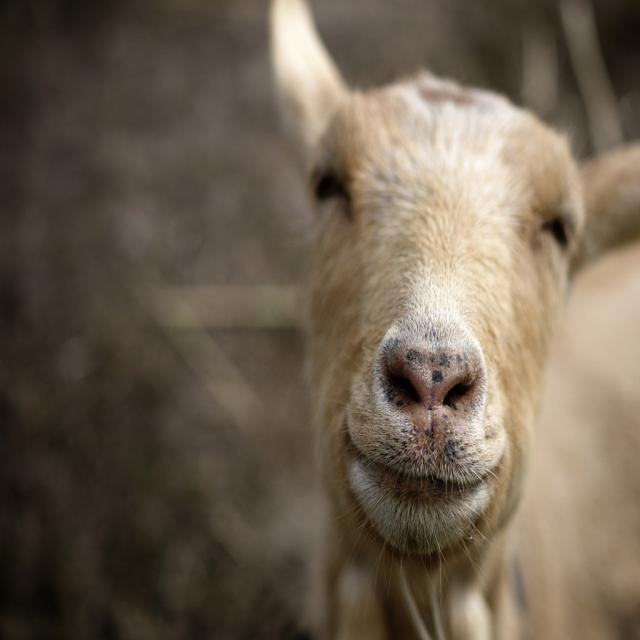Goat: (272, 0, 636, 639)
